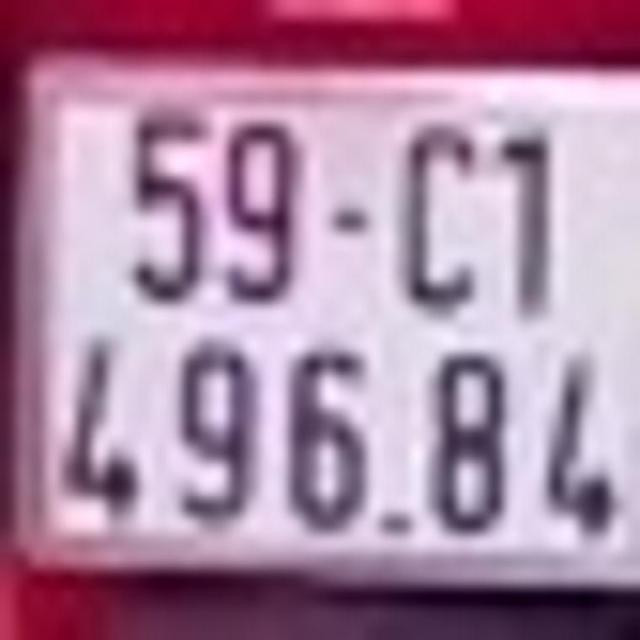1: (499, 123, 561, 320)
4: (62, 340, 139, 522), (546, 355, 619, 543)
5: (131, 112, 205, 299)
6: (288, 340, 372, 527)
8: (432, 344, 507, 536)
9: (218, 115, 296, 306), (178, 340, 256, 522)
C: (401, 133, 484, 310)
